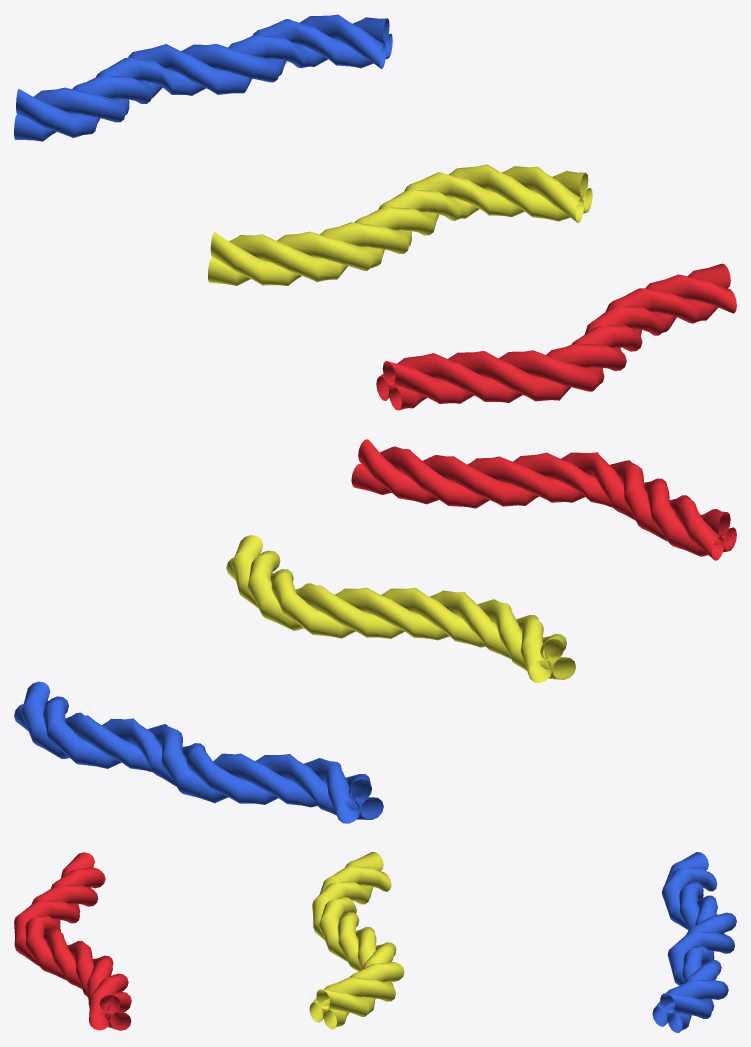
The model's file is soi len.fbx.
The picture shows the model from 3 angles, top to bottom: view 1: azimuth 30°, elevation 25°; view 2: azimuth 150°, elevation 25°; view 3: azimuth 270°, elevation 25°; orthographic projection. The views are drawn at different scales.
Visible parts, largest first — view 1: Circle.005, Circle.004, Circle.003; view 2: Circle.003, Circle.004, Circle.005; view 3: Circle.005, Circle.003, Circle.004.
Boxes of the visible parts, x1,y1,x2,y2 form: Circle.005: (208, 164, 592, 285); Circle.004: (14, 14, 392, 141); Circle.003: (376, 263, 736, 410); Circle.003: (351, 439, 736, 560); Circle.004: (14, 681, 383, 823); Circle.005: (226, 535, 575, 682); Circle.005: (309, 852, 404, 1029); Circle.003: (14, 852, 131, 1030); Circle.004: (652, 852, 736, 1032).
Size of the model in its own units: 128 by 16.2 by 254.
